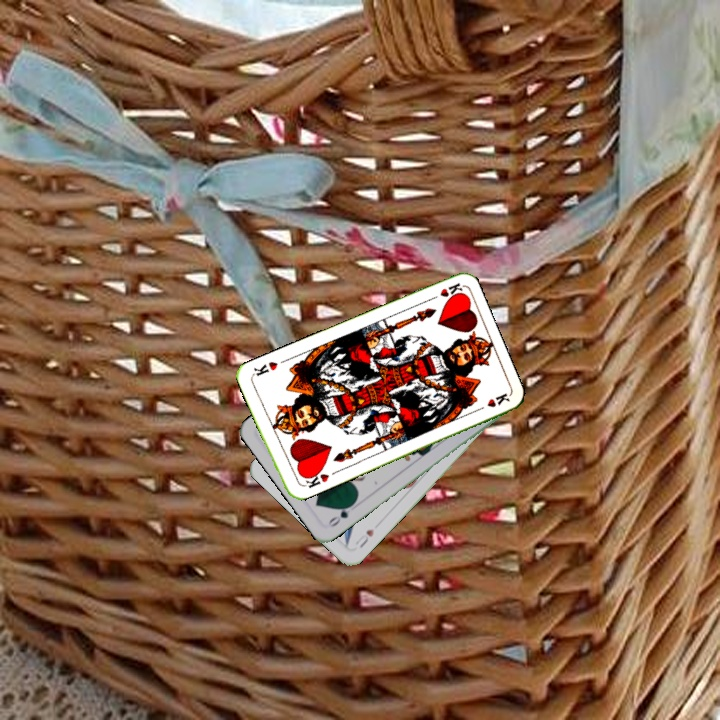GO: (323, 498, 357, 530)
HK: (424, 279, 465, 304), (297, 465, 331, 491)
HU: (351, 525, 377, 551)
